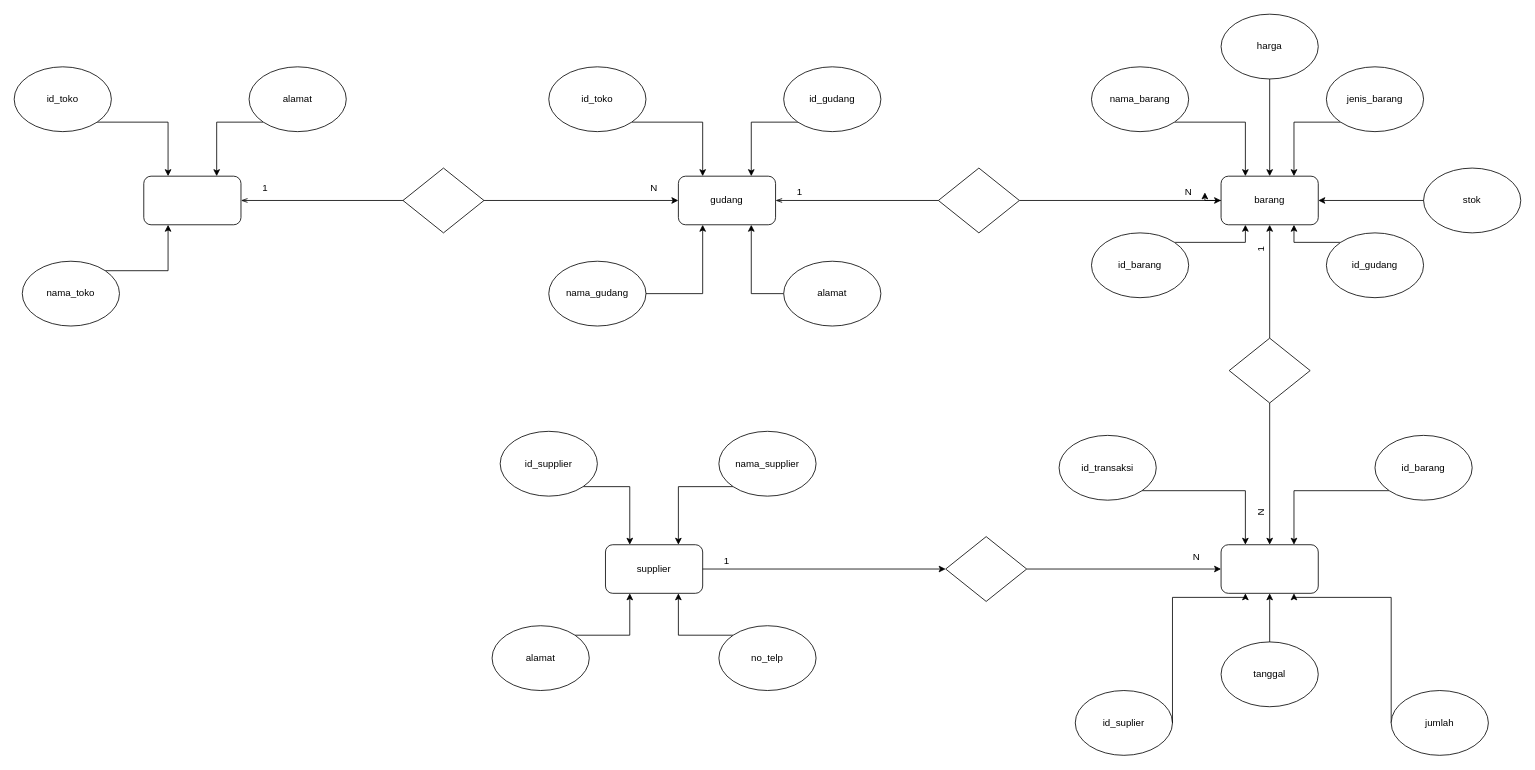
Image size: 1535x770. Some labels were removed from this diagram. The centre of each missing label's shape, as x and y in pixels:
"dicatat" belongs at pixel 1269 370.
"memasok" belongs at pixel 986 568.
"memiliki" belongs at pixel 443 200.
"menyimpan" belongs at pixel 978 200.
"toko" belongs at pixel 192 200.
"transaksi" belongs at pixel 1269 568.
